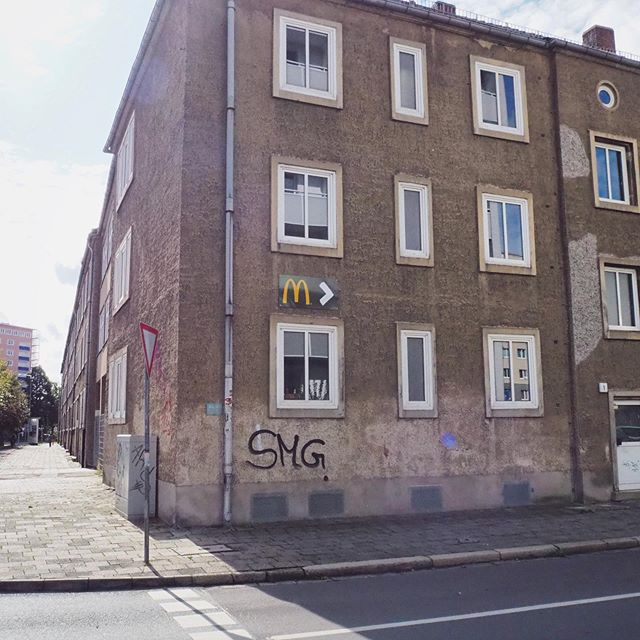building: (80, 25, 640, 512)
graffiti: (245, 425, 351, 473)
sidewalk: (1, 507, 634, 588)
sign: (274, 264, 346, 315)
street: (1, 558, 640, 640)
